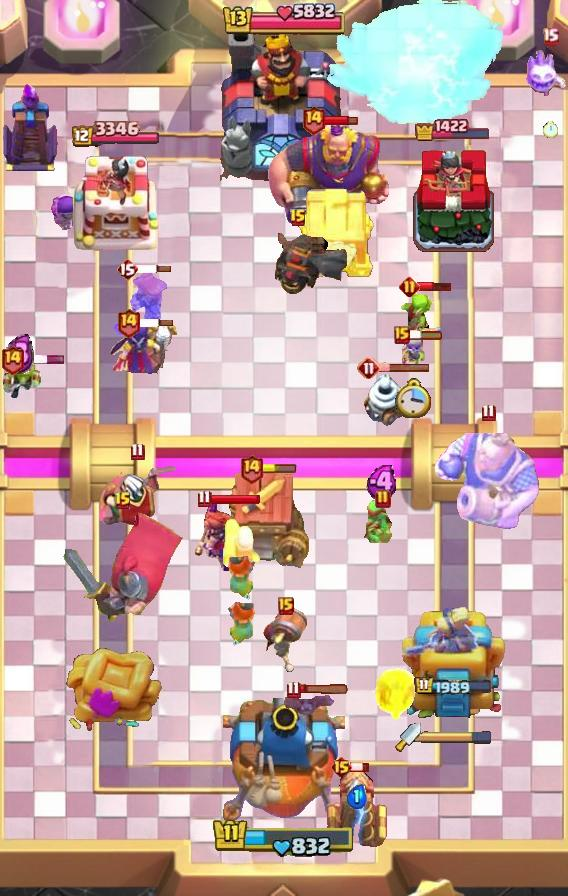archer-evolution: (249, 230, 347, 300)
axe: (108, 319, 178, 379)
bar: (399, 607, 507, 731)
barbarian-barrel: (278, 693, 334, 719)
bomb: (296, 185, 376, 279)
clock: (212, 817, 356, 859), (221, 0, 347, 40)
electro-spirit: (4, 333, 35, 374), (366, 465, 401, 499), (346, 784, 367, 809)
elixir: (395, 378, 432, 418), (543, 121, 557, 138)
emote: (209, 493, 261, 505), (14, 355, 67, 366), (379, 362, 431, 373), (298, 684, 350, 695), (408, 329, 444, 341), (323, 114, 358, 126), (417, 280, 453, 291), (136, 264, 172, 274), (138, 318, 174, 328), (261, 464, 297, 474), (350, 761, 370, 773)
giant-skeleton: (435, 427, 541, 529)
giant-snowball: (362, 499, 404, 543)
goblin: (397, 332, 429, 374), (50, 194, 78, 232)
goblin-brawler: (322, 764, 390, 850)
goblin-drill: (362, 371, 412, 427)
hog-rider: (223, 551, 261, 603), (222, 597, 260, 649)
ice-spirit-evolution-symbol: (0, 81, 60, 173)
king-tower: (219, 21, 349, 181), (223, 698, 345, 826)
king-tower-bar: (421, 730, 493, 744)
knight: (262, 605, 310, 675)
lightning: (267, 123, 393, 229)
mega-knight: (324, 1, 508, 132)
mirror: (520, 50, 568, 98)
queen-tower: (68, 150, 160, 256), (410, 144, 496, 255)
selected: (69, 121, 159, 149), (414, 118, 492, 142), (414, 675, 494, 697)
skeleton-king: (95, 461, 179, 527)
sparky: (223, 472, 309, 570)
tesla-evolution: (112, 268, 172, 348), (194, 498, 238, 574)
text: (302, 105, 327, 136), (115, 307, 140, 337), (0, 345, 24, 376), (240, 452, 264, 483), (357, 356, 381, 380), (331, 755, 354, 779), (116, 257, 138, 281), (399, 275, 421, 296), (289, 208, 307, 228), (114, 491, 132, 511), (541, 27, 559, 46), (375, 489, 391, 509), (394, 326, 410, 344), (278, 597, 294, 615), (131, 442, 146, 461), (287, 680, 302, 699), (481, 402, 495, 421), (197, 489, 211, 508)
tombstone: (221, 516, 263, 574)
valkyrie: (368, 665, 420, 727)
wall-breaker-evolution: (63, 509, 185, 623)
zap: (399, 289, 443, 344), (0, 358, 42, 402)
